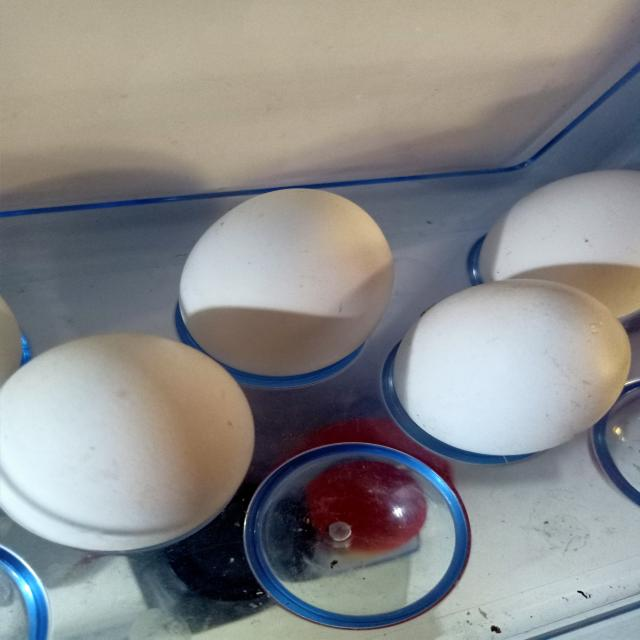Egg: (0, 332, 257, 556), (380, 276, 633, 466), (176, 189, 396, 380)
